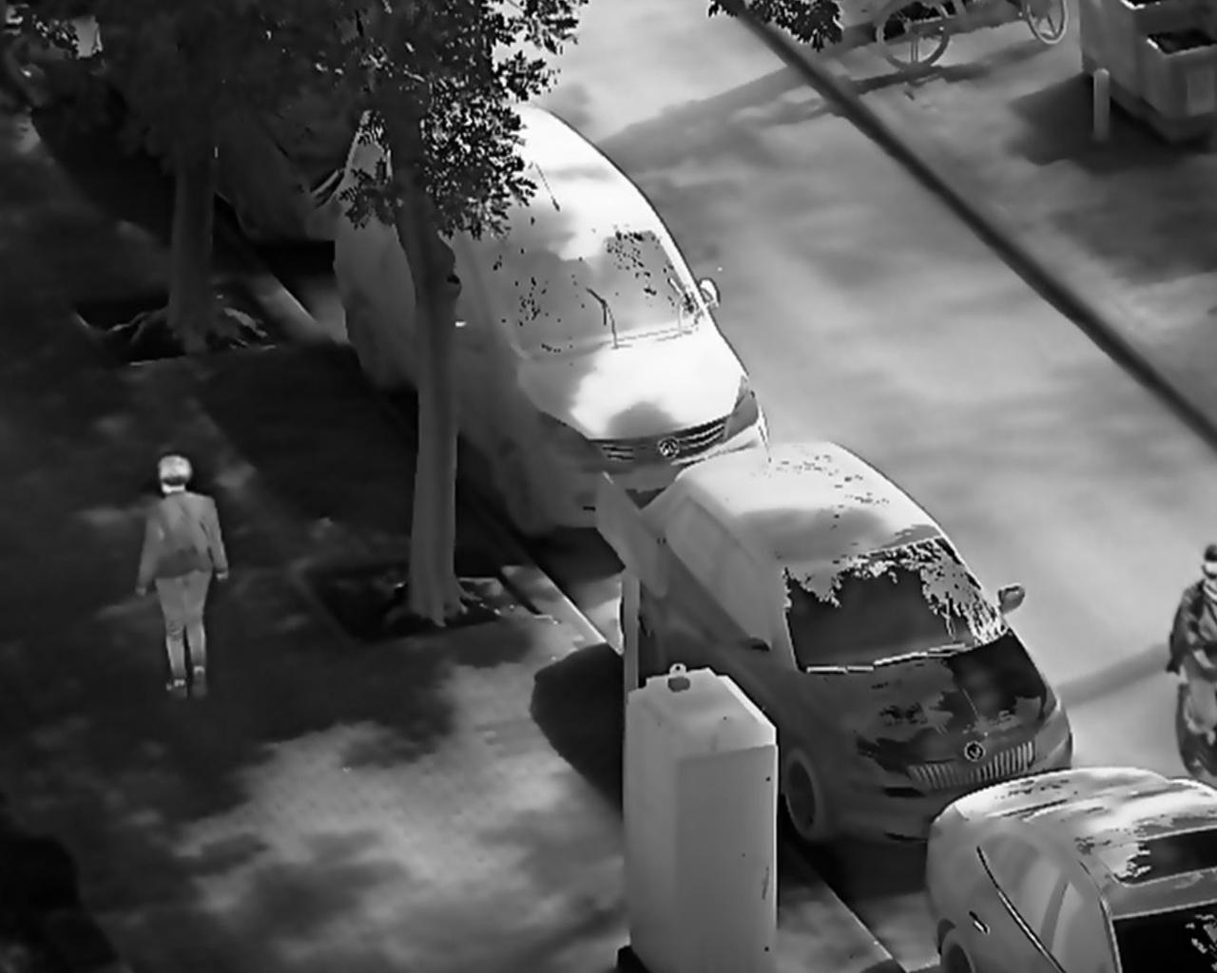person: (133, 448, 234, 708)
